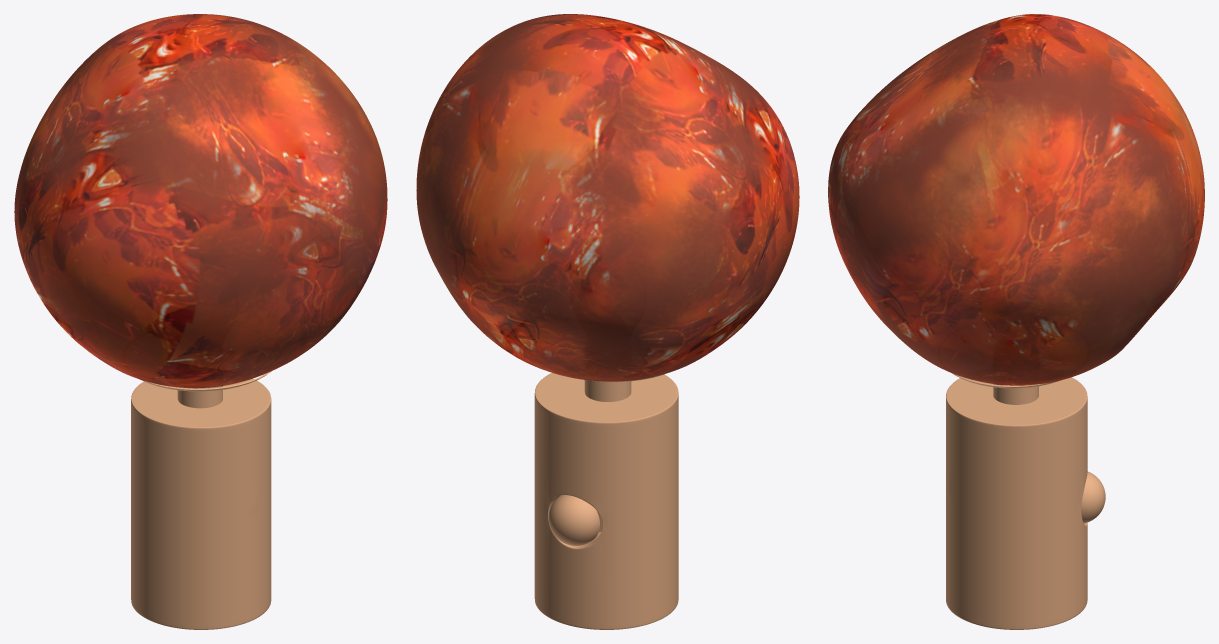
Rendered from scene_baked.gltf.
3 views of the same model, side by side, from view 1: azimuth 30°, elevation 25°; view 2: azimuth 150°, elevation 25°; view 3: azimuth 270°, elevation 25° (orthographic). The views are drawn at different scales.
Visible parts, largest first — view 1: g Object002, Cylinder004, Cylinder005; view 2: g Object002, Cylinder004, Cylinder005; view 3: g Object002, Cylinder004, Cylinder005.
Boxes of the visible parts, box(x1,y1,x2,y2) form: g Object002: box(14, 14, 387, 388); Cylinder004: box(131, 378, 271, 629); Cylinder005: box(177, 386, 222, 408); g Object002: box(416, 14, 799, 381); Cylinder004: box(534, 373, 678, 629); Cylinder005: box(584, 380, 631, 401); g Object002: box(828, 14, 1204, 385); Cylinder004: box(946, 377, 1105, 629); Cylinder005: box(993, 384, 1038, 404).
Size of the model in its own units: 25.21 by 42.13 by 25.13.
Materials: 3 (3 with a texture image).
